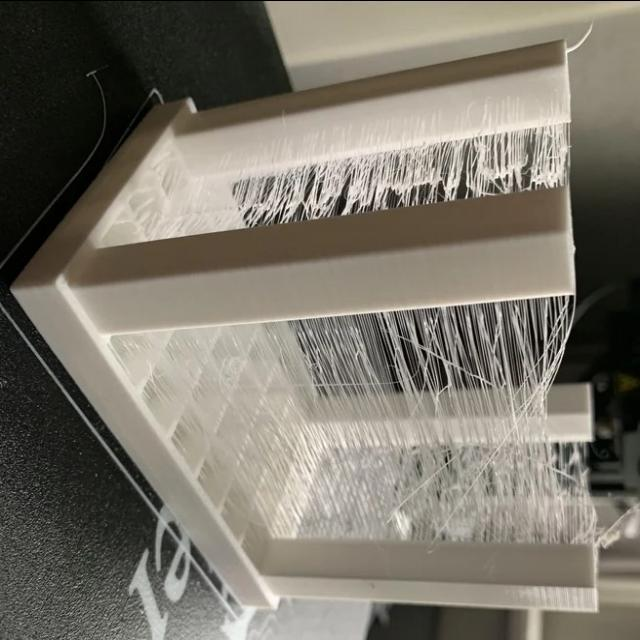Stringing: (98, 285, 584, 559)
